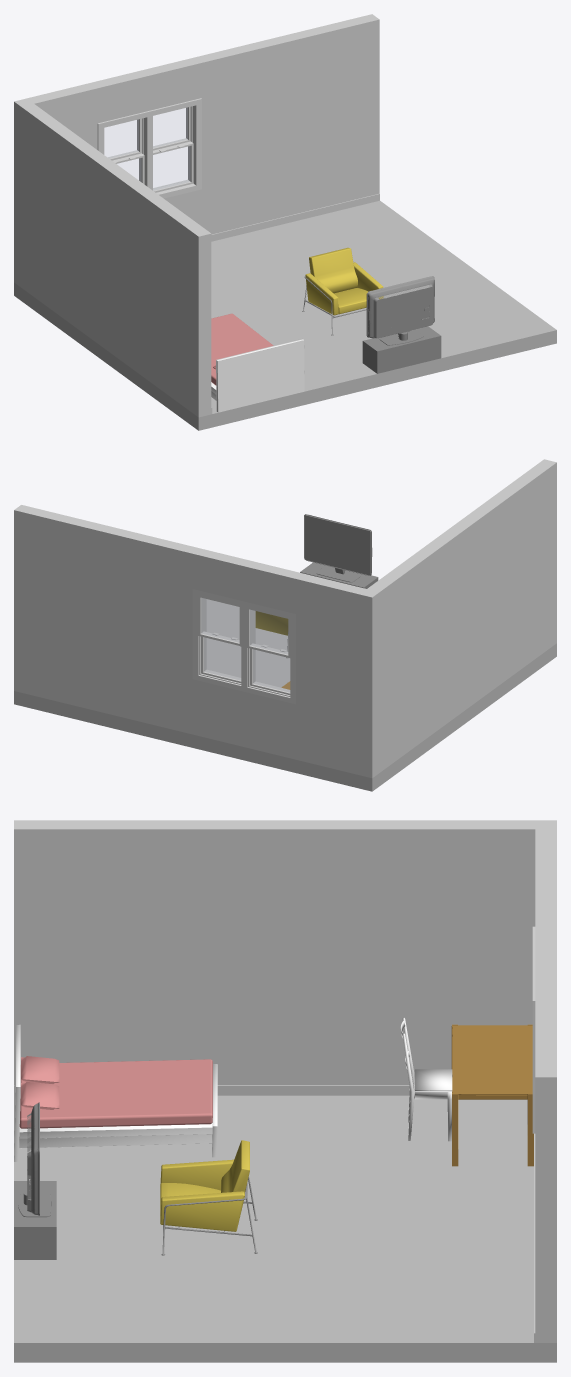
Rendered from L16_W18_furniture3_privacy1.glb.
3 renders of one model, top to bottom at view 1: azimuth 30°, elevation 25°; view 2: azimuth 150°, elevation 25°; view 3: azimuth 270°, elevation 25°, orthographic. The views are drawn at different scales.
Bounding box in the file's own units: 224 × 116 × 200.
